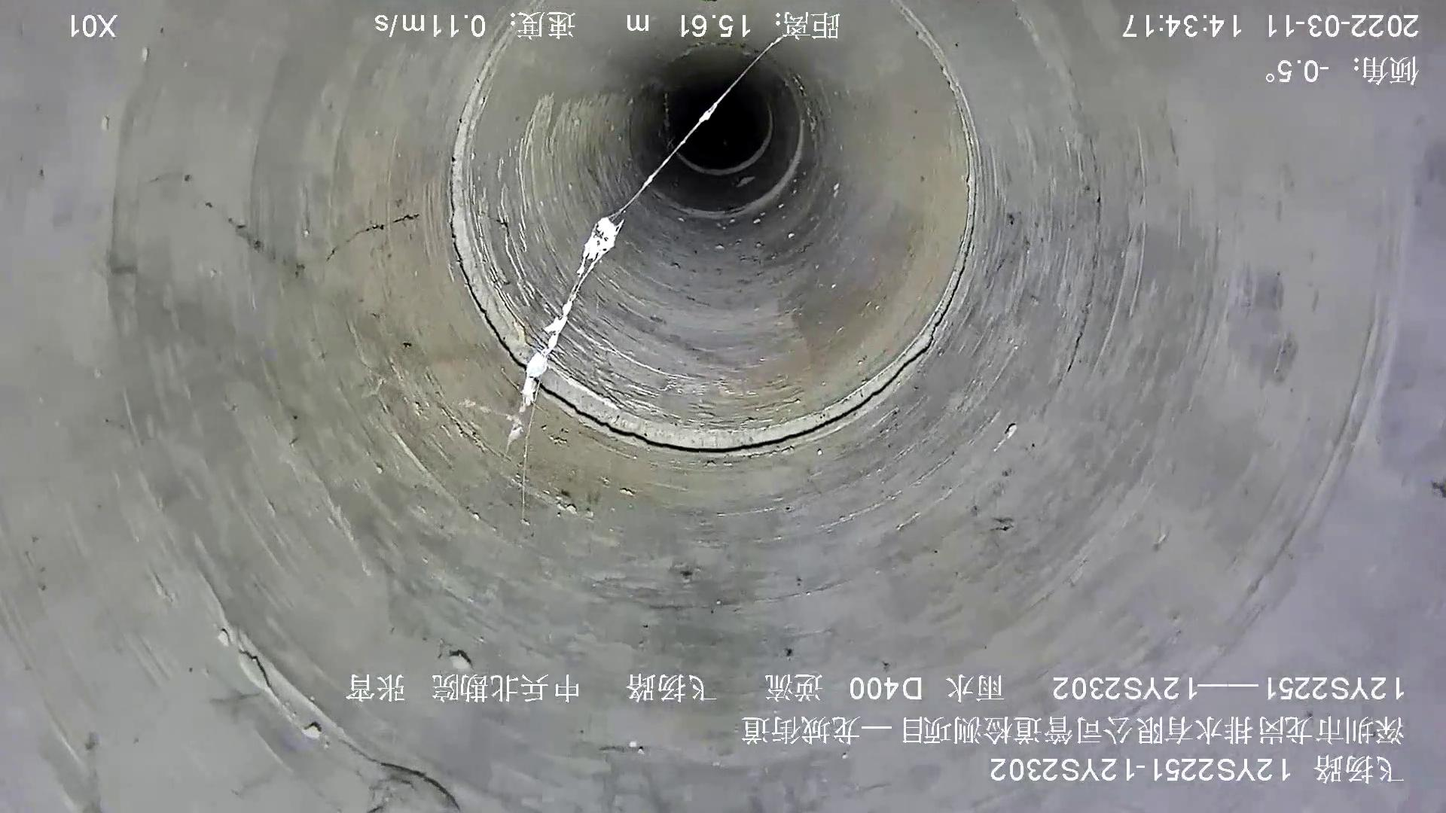CKTJ: (451, 11, 981, 457), (630, 123, 805, 221), (676, 106, 775, 176)
SG: (508, 35, 788, 443)
